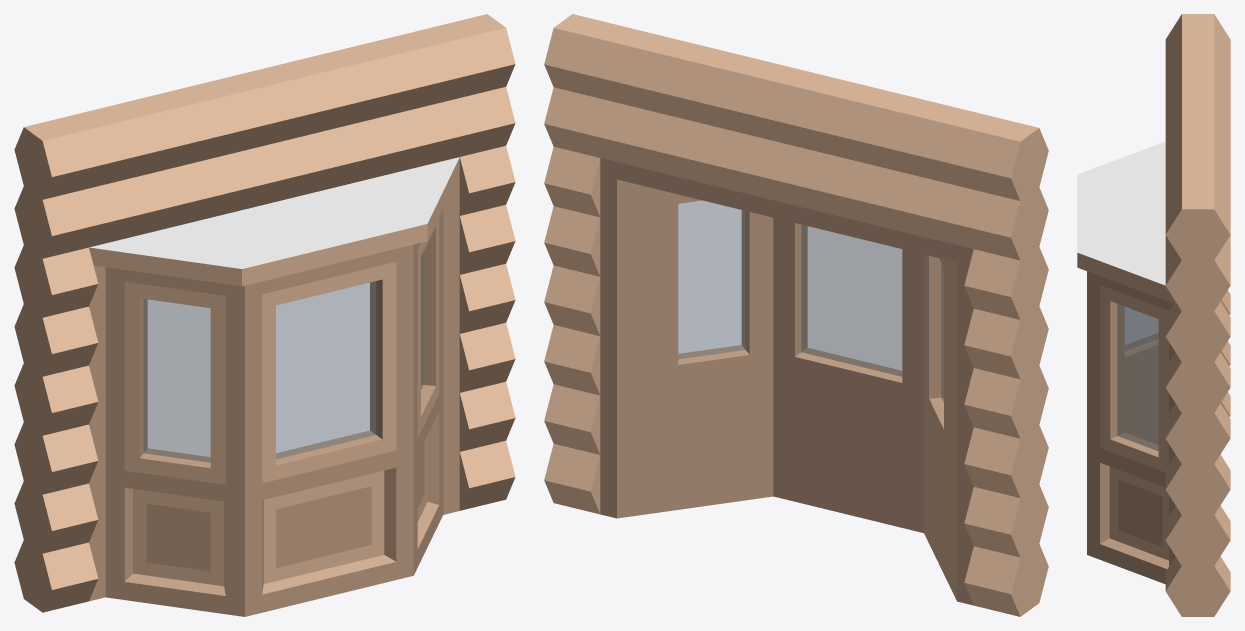
The model's file is cabinWindowLarge.glb.
3 views of the same model, side by side, from view 1: azimuth 30°, elevation 25°; view 2: azimuth 150°, elevation 25°; view 3: azimuth 270°, elevation 25° (orthographic). The views are drawn at different scales.
Parts seen in each view (by area): view 1: frame, cabinWindowLarge(Clone); view 2: frame, cabinWindowLarge(Clone); view 3: cabinWindowLarge(Clone), frame.
Part boxes in pixels (<box>): frame: <box>89,157,459,616</box>; cabinWindowLarge(Clone): <box>14,14,515,612</box>; frame: <box>600,158,973,605</box>; cabinWindowLarge(Clone): <box>544,14,1048,616</box>; cabinWindowLarge(Clone): <box>1165,14,1230,616</box>; frame: <box>1077,141,1175,584</box>.
Bounding box in the file's own units: 1 × 0.9727 × 0.3311.
